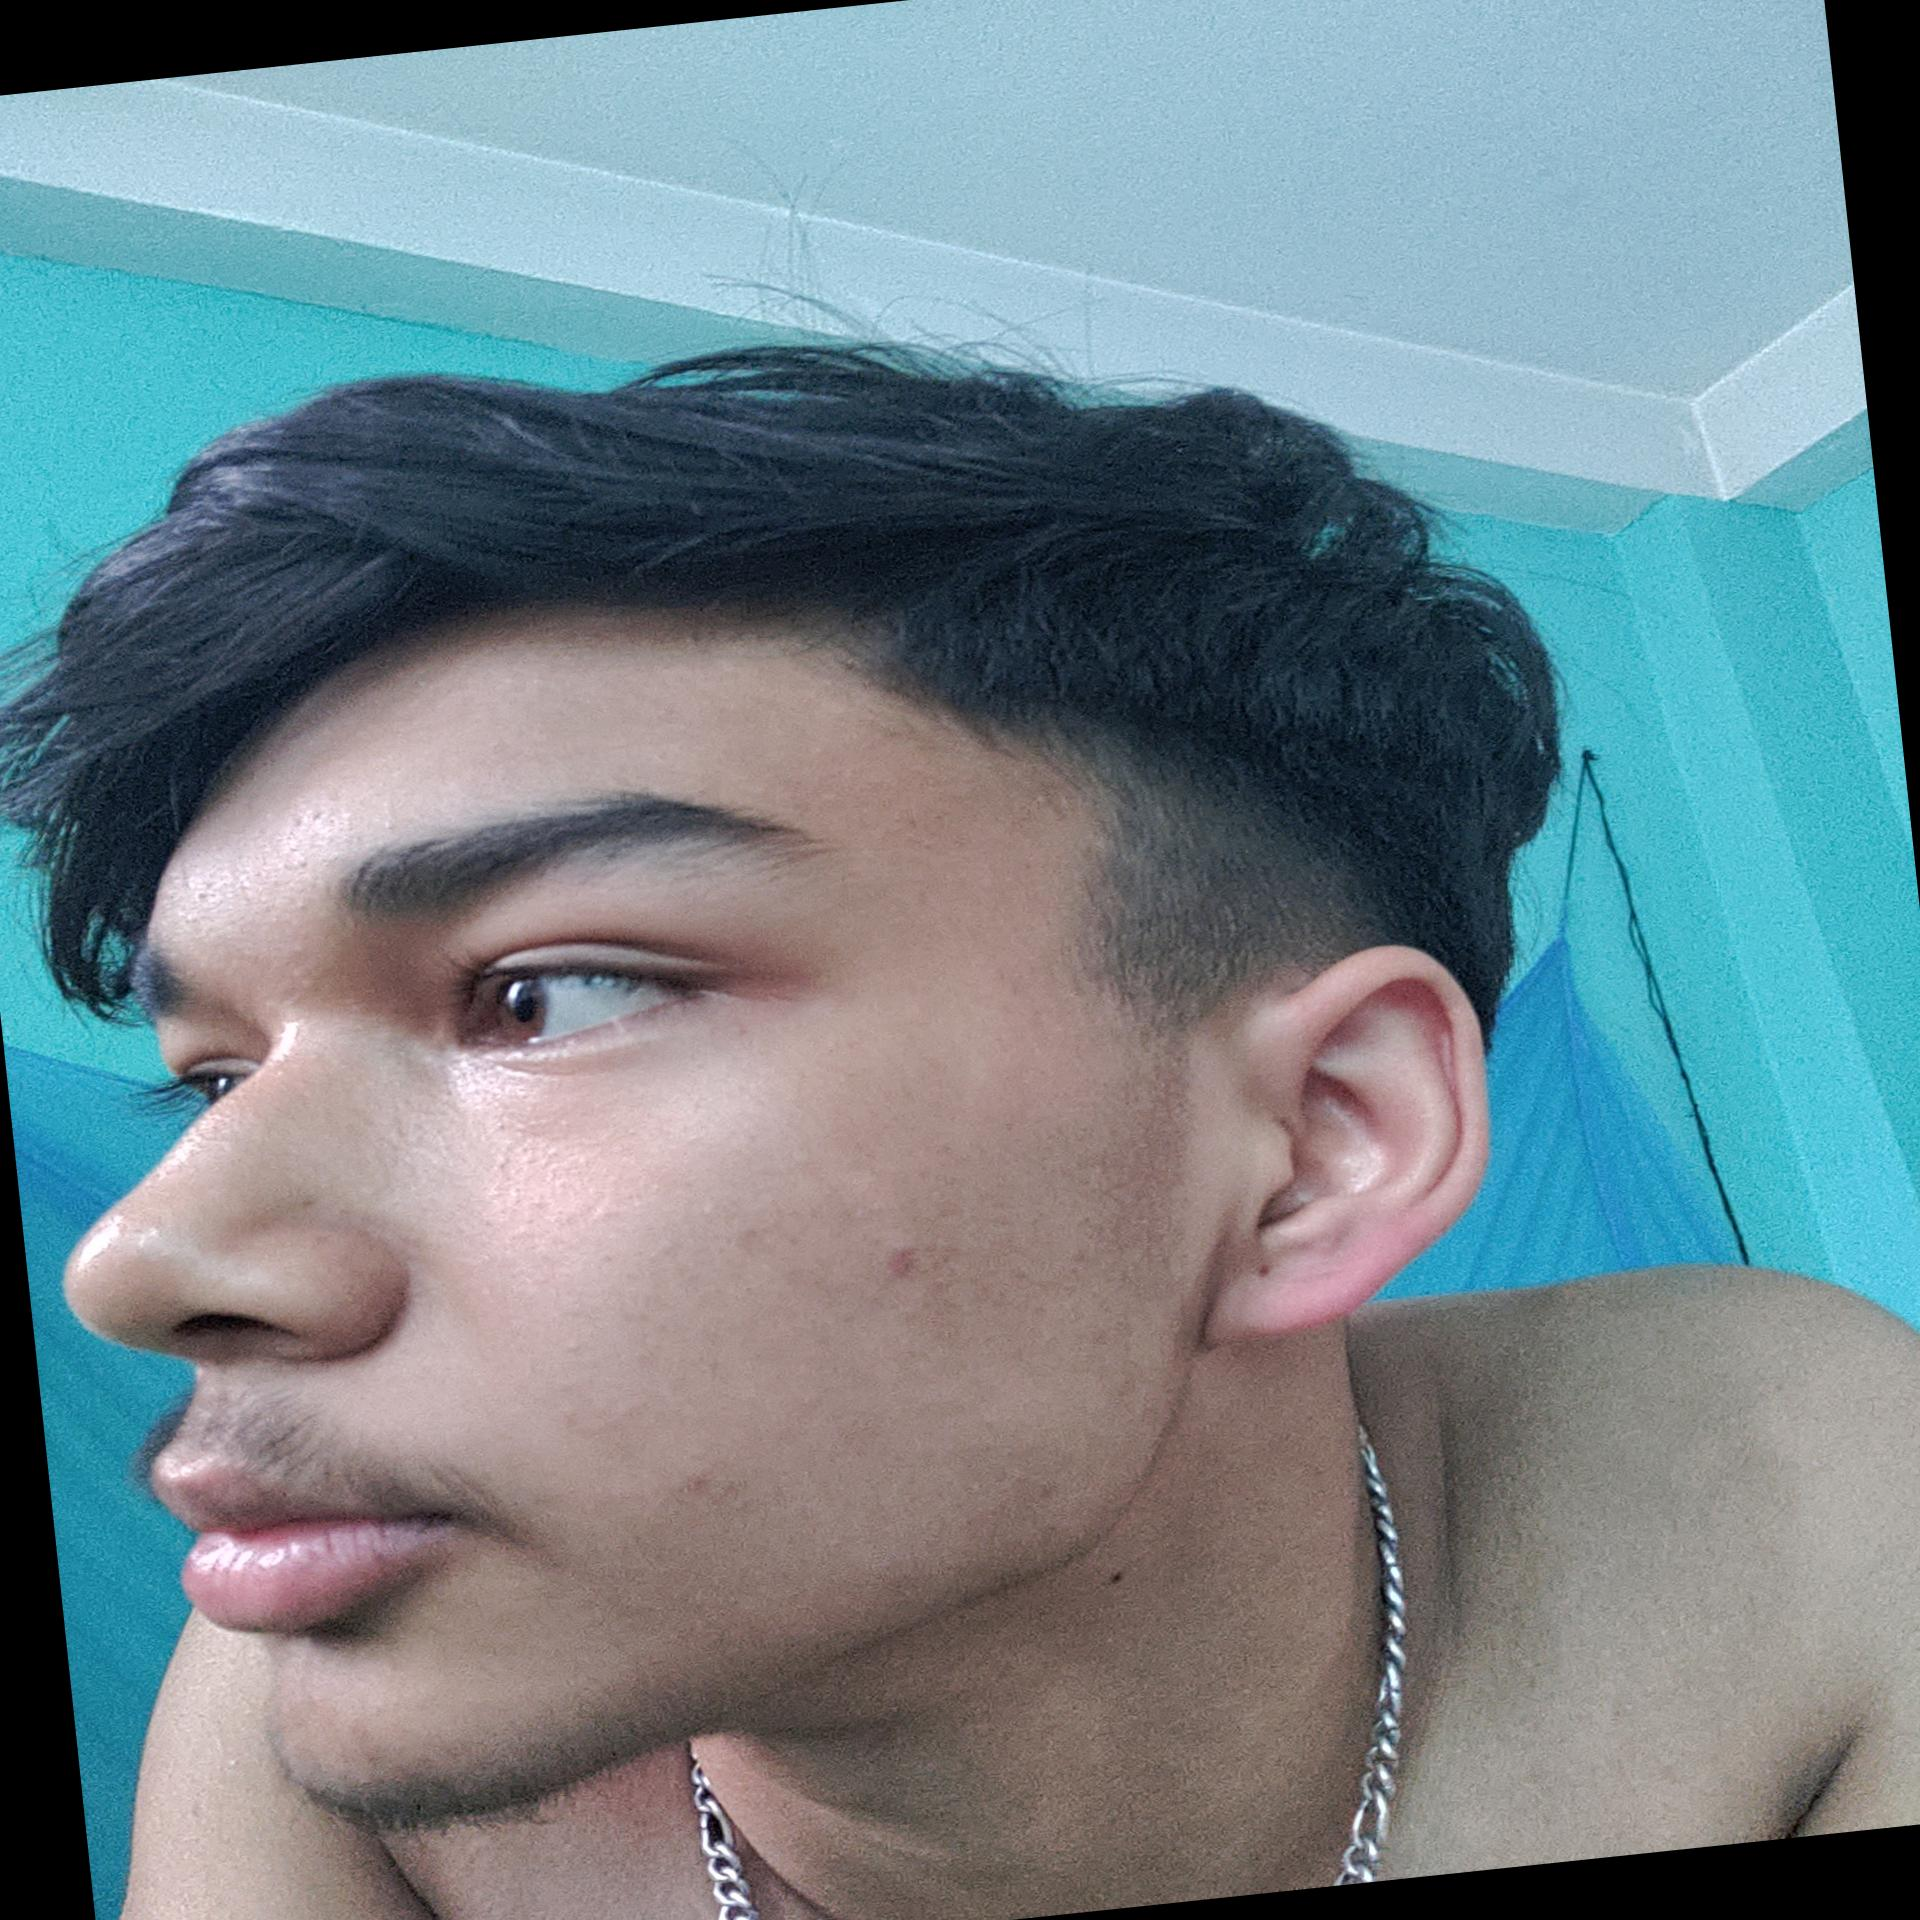Acne: (675, 1459, 756, 1517), (883, 1238, 939, 1289)
